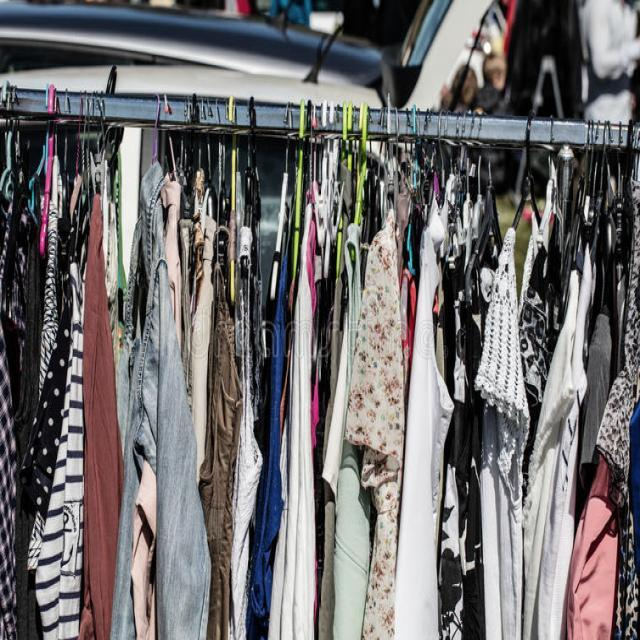clothes: (0, 215, 639, 640)
